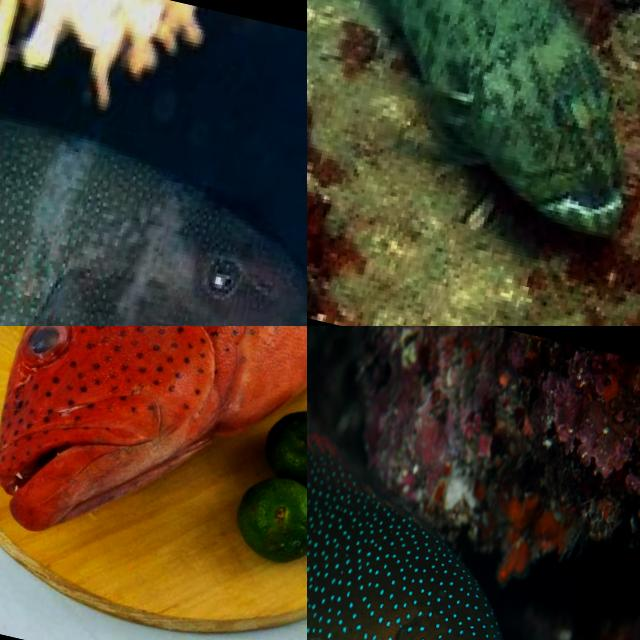Plectropomus-leopardus: (0, 326, 307, 640), (0, 26, 307, 326), (307, 0, 640, 275), (307, 358, 617, 640)
